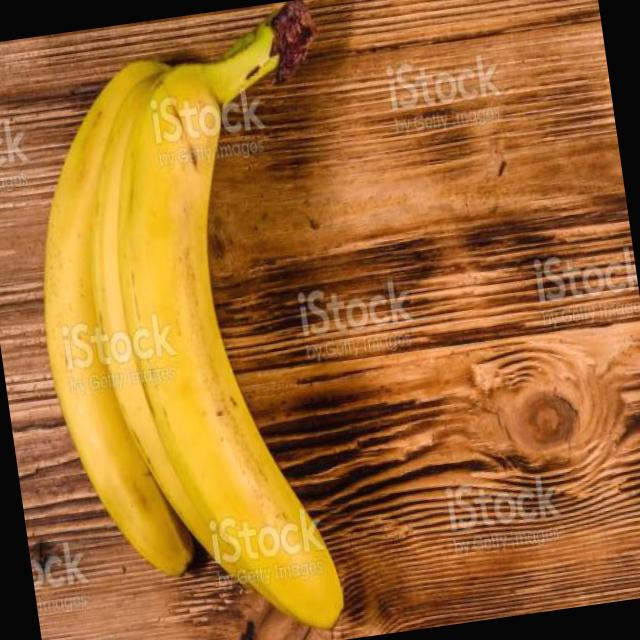Platano: (0, 0, 400, 640)
